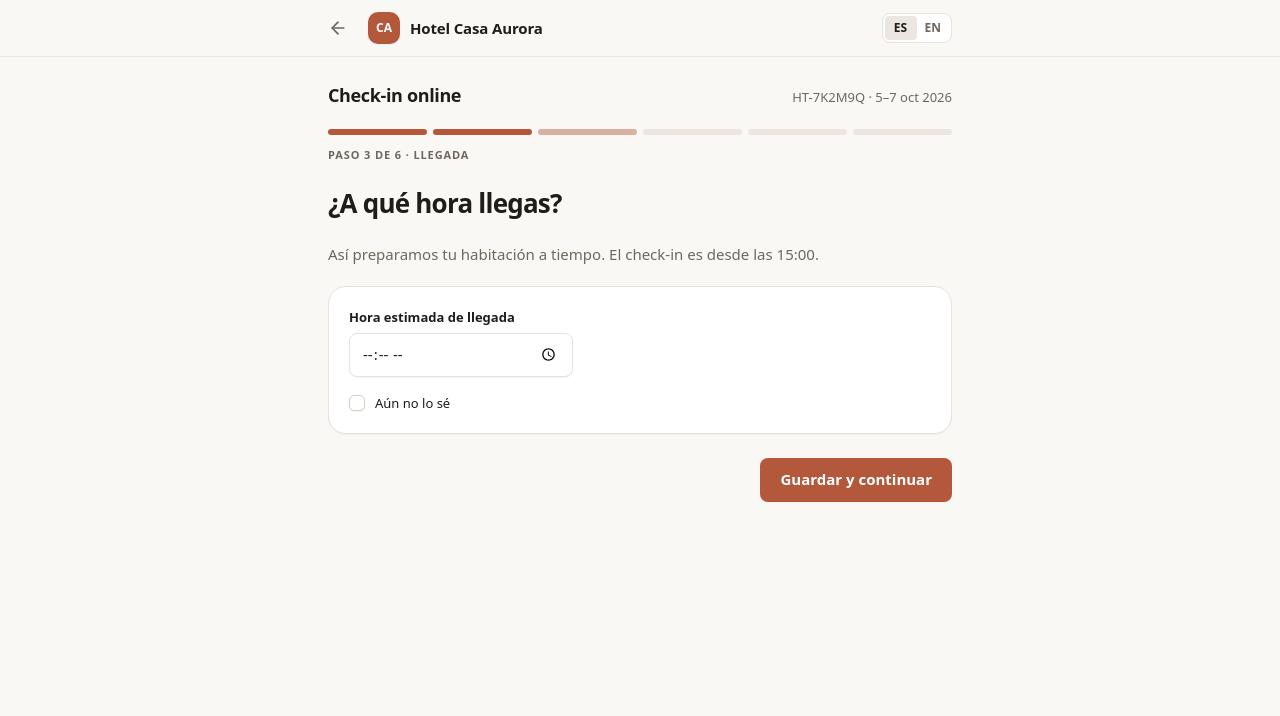
Test: CheckinPage — documents and arrival › saves the arrival time
Type "16:30" into the time field labelled "Hora estimada de llegada".
click(461, 354); type("16:30")  # box [349, 332, 573, 376]
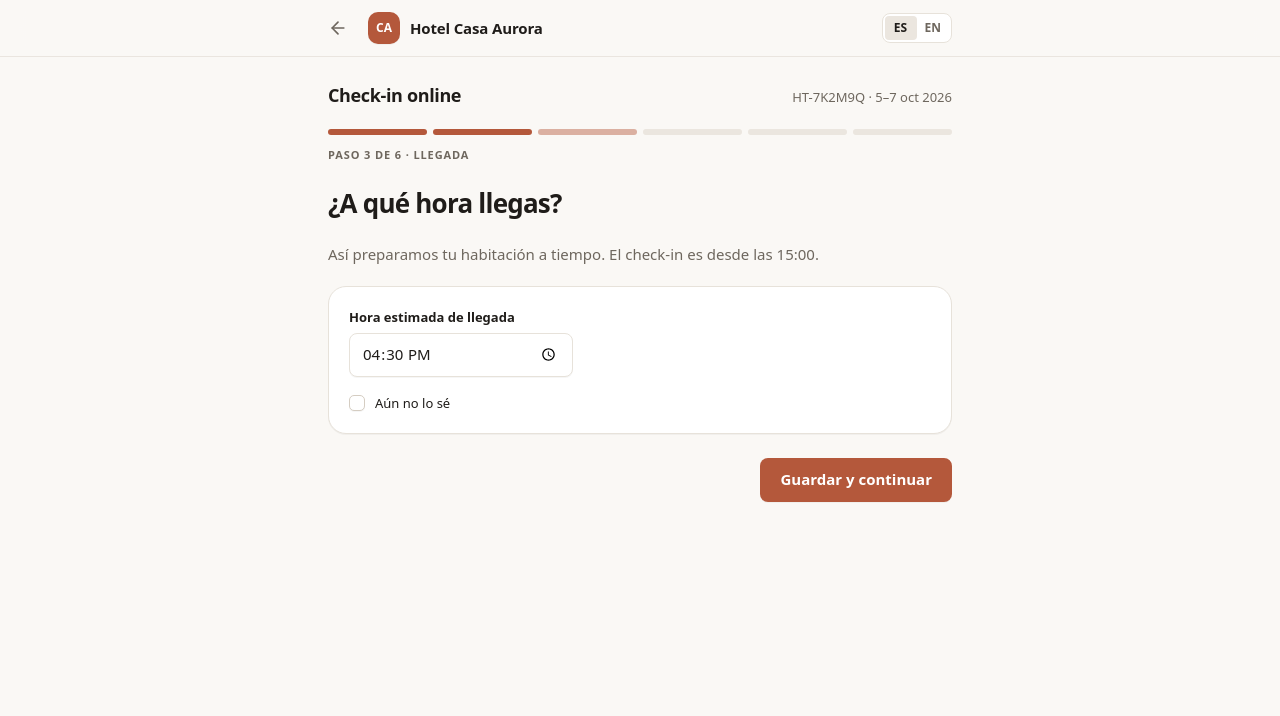
Click the button "Guardar y continuar".
click(856, 480)  # box [760, 458, 952, 502]
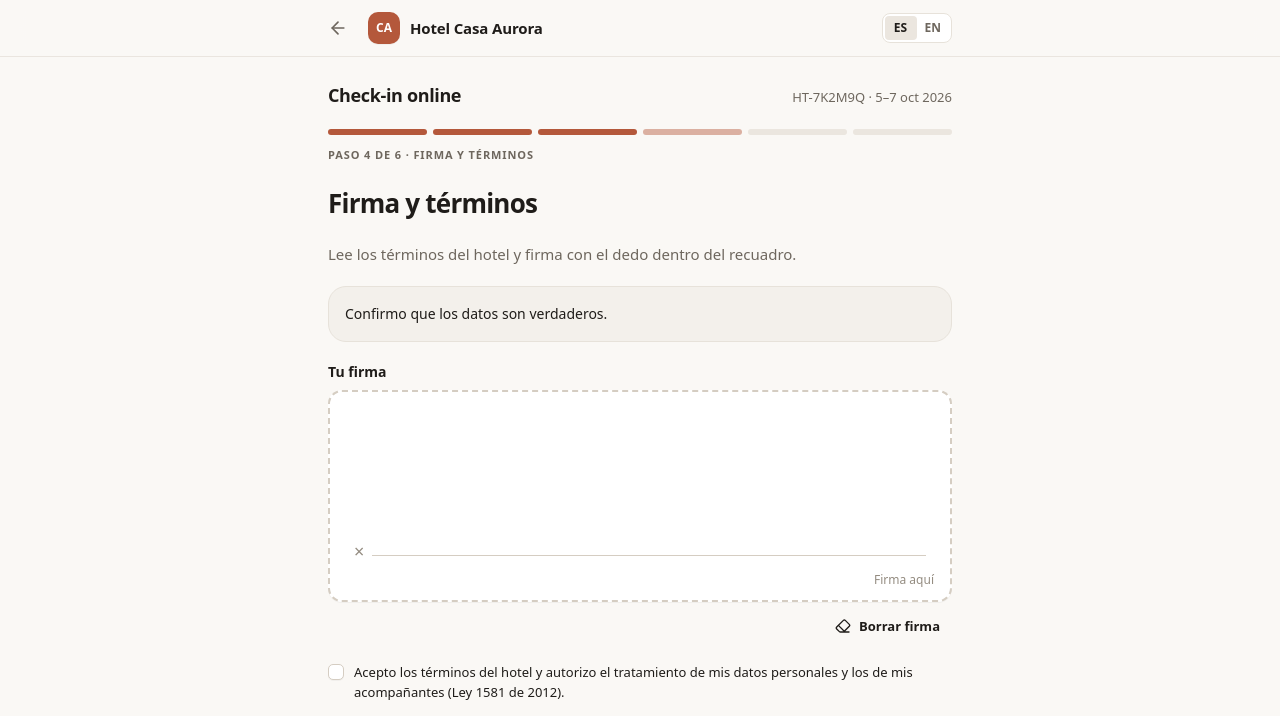
expect the heading "Firma y términos" is shown: met, box [328, 185, 537, 221]
